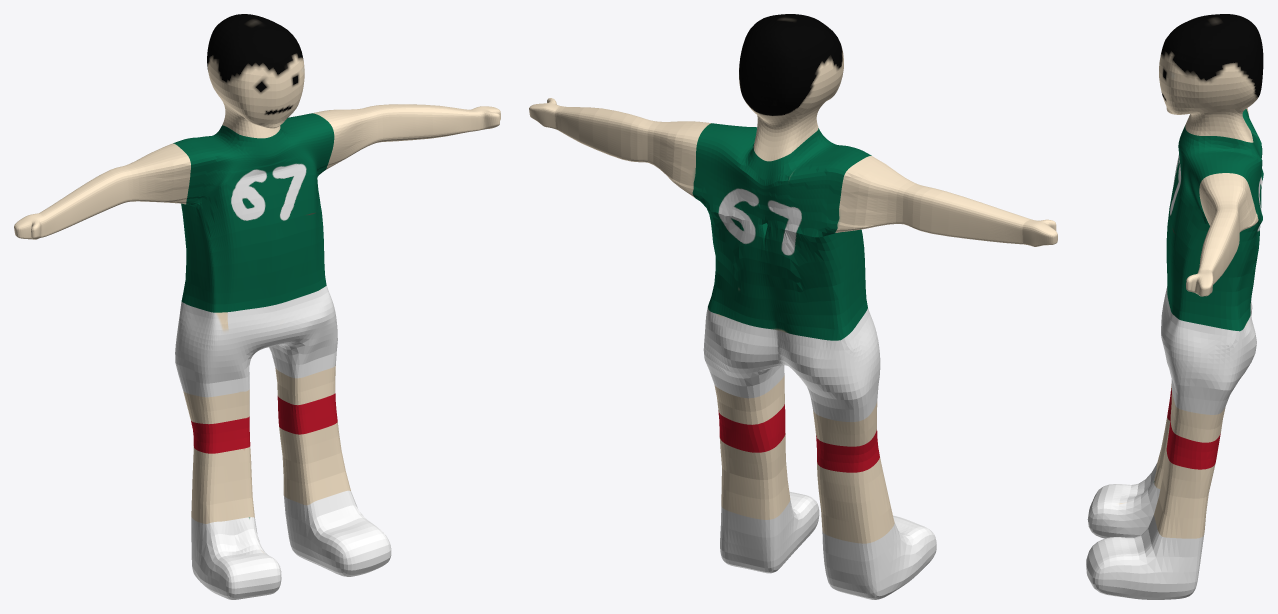
File: JugadorMX.obj
3 views of the same model, side by side, from view 1: azimuth 30°, elevation 25°; view 2: azimuth 150°, elevation 25°; view 3: azimuth 270°, elevation 25° (orthographic). The views are drawn at different scales.
Parts seen in each view (by area): view 1: Cube; view 2: Cube; view 3: Cube.
Part boxes in pixels (x1,y1,x2,y2): Cube: (14, 14, 500, 599); Cube: (529, 14, 1057, 599); Cube: (1086, 14, 1263, 599).
Bounding box in the file's own units: 10.26 × 10.73 × 3.16.
Materials: 1 (1 with a texture image).
